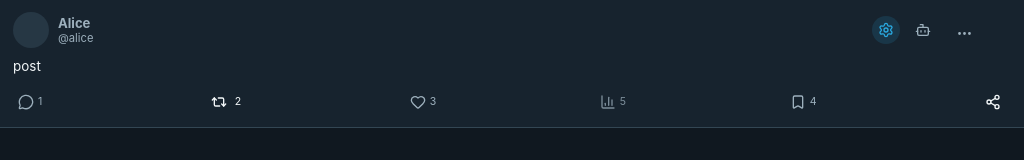
Test case: post actions › accepts rapid toggles immediately and serializes only the states needed to converge
Click the button named "いいね" at (423, 102), box [405,87,441,117]
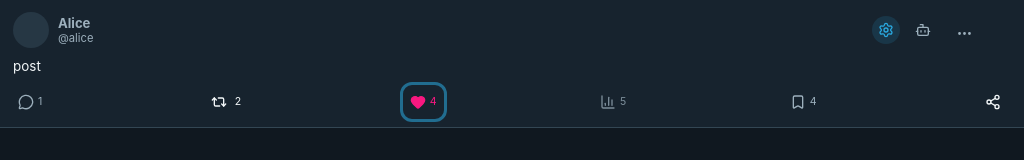
Expected: the button named "いいね" reads "4"
Click the button named "いいね" at (423, 102), box [405,87,442,117]
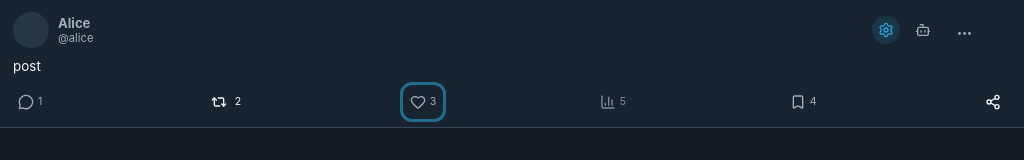
Expected: the button named "いいね" reads "3", [405,87,441,117]
